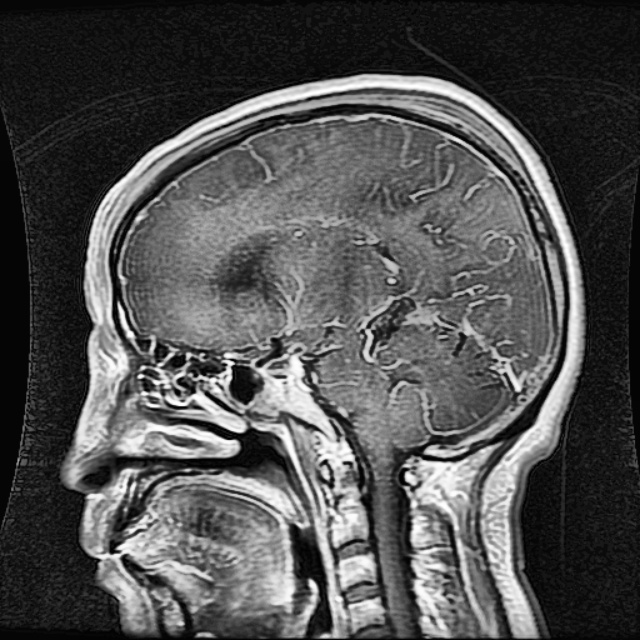Meningioma: (214, 225, 277, 330)
